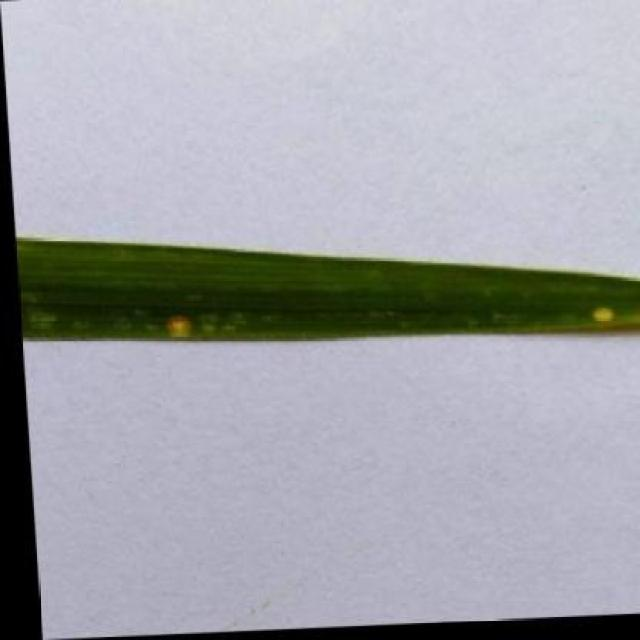Bacterial_Leaf_Blight: (155, 292, 208, 346), (580, 302, 618, 340)
